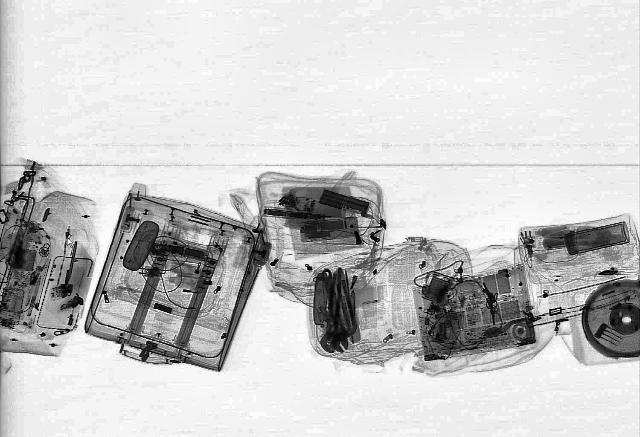Wrench: (316, 270, 349, 354)
